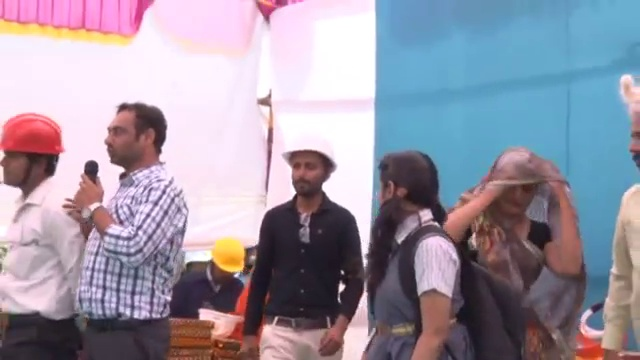helmet: (0, 108, 66, 159), (280, 132, 339, 175), (196, 307, 245, 339), (210, 241, 246, 273)
helmet_off: (487, 149, 566, 225), (378, 151, 444, 226), (97, 106, 172, 172), (280, 132, 339, 204), (620, 75, 640, 176)
helmet_on: (0, 110, 62, 192), (206, 241, 245, 289)
person: (63, 98, 192, 360), (238, 119, 372, 360), (444, 149, 587, 360), (365, 153, 475, 360), (0, 123, 85, 358), (599, 74, 640, 360), (174, 238, 248, 328)
